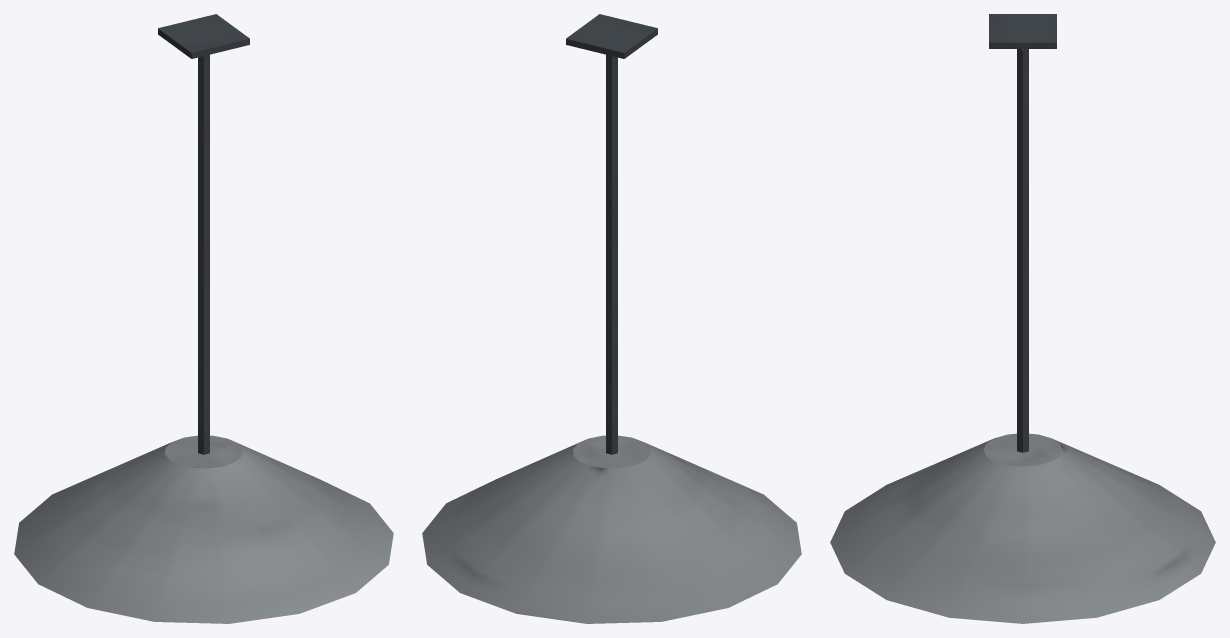
Rendered from lamp_pendant_prison.fbx.
The picture shows the model from 3 angles, left to right: view 1: azimuth 30°, elevation 25°; view 2: azimuth 150°, elevation 25°; view 3: azimuth 270°, elevation 25°; orthographic projection.
Visible parts, largest first — view 1: lamp_pendant_prison; view 2: lamp_pendant_prison; view 3: lamp_pendant_prison.
Boxes of the visible parts, x1,y1,x2,y2 form: lamp_pendant_prison: (14, 14, 393, 623); lamp_pendant_prison: (422, 14, 801, 623); lamp_pendant_prison: (830, 14, 1215, 623).
Bounding box in the file's own units: 0.68 × 1.01 × 0.68.
1 material, 1 textured.
